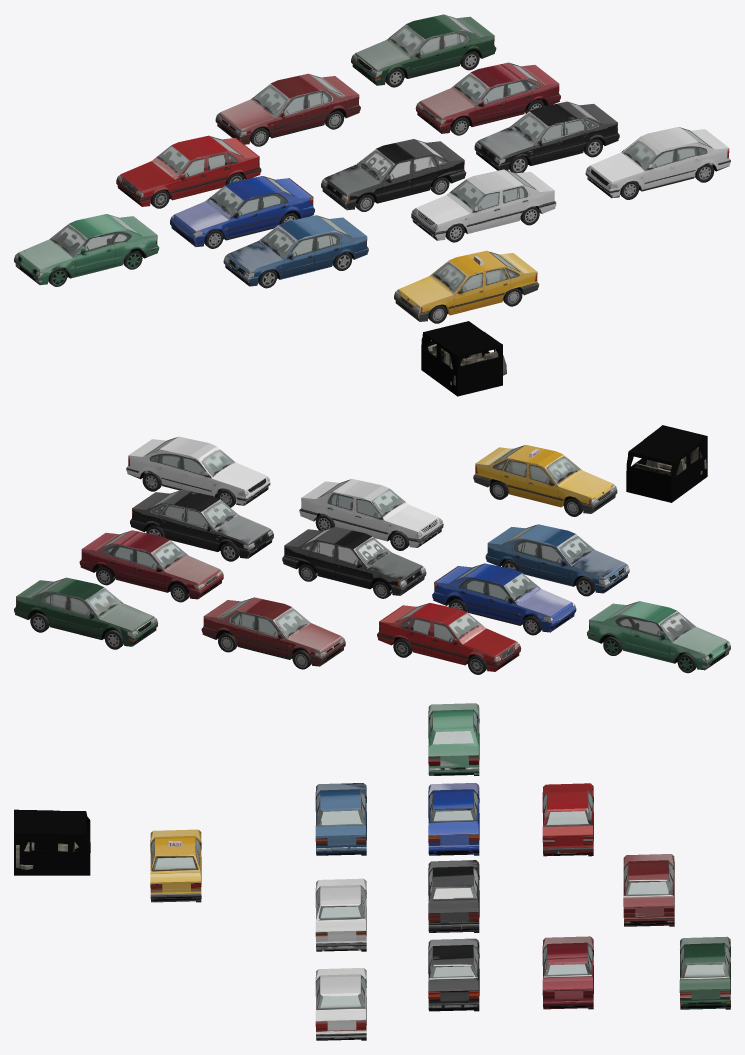
Rendered from Cars.fbx.
3 views of the same model, one above another, from view 1: azimuth 30°, elevation 25°; view 2: azimuth 150°, elevation 25°; view 3: azimuth 270°, elevation 25° (orthographic). The views are drawn at different scales.
Visible parts, largest first — view 1: Blue Car1, White Car1, Black Car, Light Green Car, Green Car, White Car, Light Red Car, Red Car, Red Car1, Blue Car, Black Car1, taxi (+1 smaller); view 2: Red Car, Red Car1, Light Red Car, Black Car, Blue Car, Blue Car1, Green Car, Light Green Car, Black Car1, taxi, White Car, White Car1 (+1 smaller); view 3: inside car, Black Car1, Blue Car, Light Green Car, Black Car, Red Car1, Red Car, Light Red Car, White Car, Blue Car1, White Car1, taxi (+1 smaller).
Part boxes in pixels (box(x1,y1,x2,y2)): Blue Car1: box(223, 215, 368, 286); White Car1: box(585, 127, 730, 198); Black Car: box(321, 139, 466, 210); Light Green Car: box(14, 214, 159, 285); Green Car: box(351, 14, 496, 85); White Car: box(411, 169, 556, 240); Light Red Car: box(116, 135, 261, 206); Red Car: box(415, 62, 560, 133); Red Car1: box(215, 73, 360, 144); Blue Car: box(170, 176, 314, 246); Black Car1: box(474, 101, 619, 170); taxi: box(394, 250, 539, 321); Red Car: box(79, 530, 223, 599); Red Car1: box(201, 597, 345, 666); Light Red Car: box(377, 603, 521, 671); Black Car: box(282, 527, 426, 595); Blue Car: box(432, 563, 576, 632); Blue Car1: box(485, 524, 629, 593); Green Car: box(14, 577, 157, 646); Light Green Car: box(587, 601, 730, 670); Black Car1: box(130, 489, 273, 558); taxi: box(473, 445, 617, 513); White Car: box(299, 479, 443, 547); White Car1: box(126, 436, 270, 505); inside car: box(14, 809, 90, 875); Black Car1: box(428, 938, 479, 1011); Blue Car: box(428, 783, 479, 855); Light Green Car: box(428, 703, 479, 775); Black Car: box(428, 860, 479, 932); Red Car1: box(623, 854, 674, 926); Red Car: box(542, 936, 593, 1009); Light Red Car: box(542, 783, 593, 856); White Car: box(315, 878, 366, 951); Blue Car1: box(315, 783, 366, 855); White Car1: box(315, 968, 366, 1040); taxi: box(150, 829, 201, 902).
Size of the model in its own units: 5800 by 501 by 5381.
Materials: 14 (13 with a texture image).
